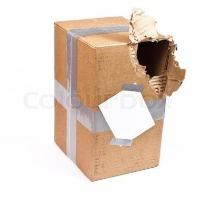damaged package: (128, 13, 184, 94)
undamaged: (47, 5, 190, 182)
